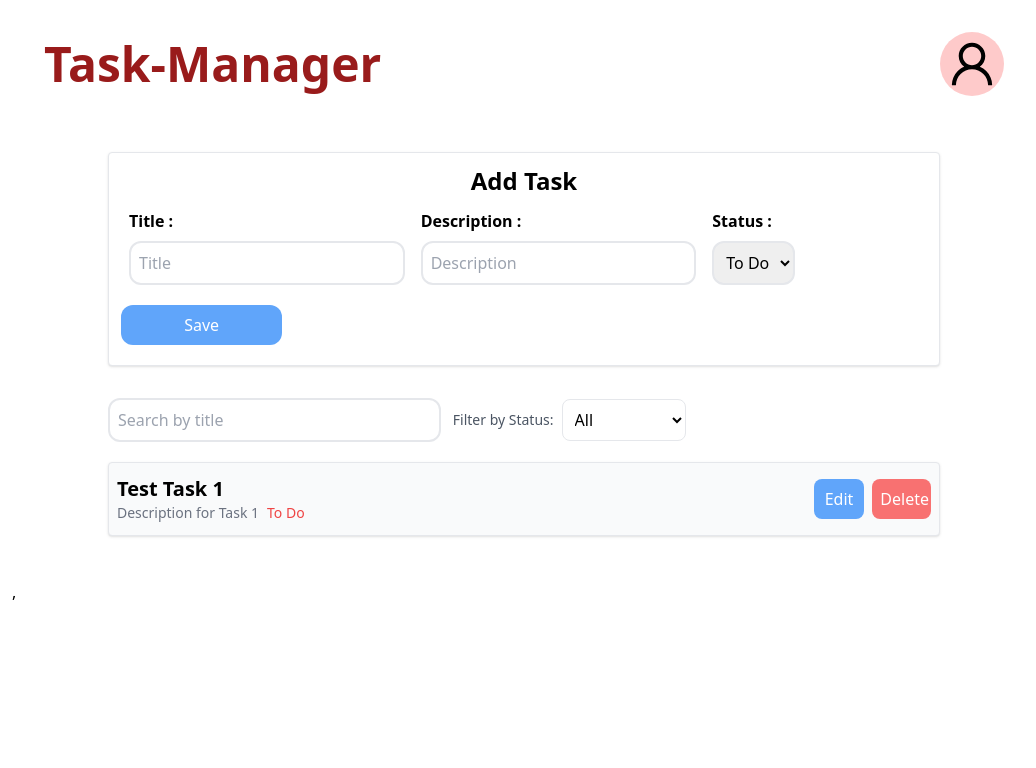
Test: Todo component › updates an existing task
The image size is (1036, 768).
Expected: the text "Test Task 1" is shown, [117,475,224,502]
Click the button "Edit" at (839,499), box [814,479,864,519]
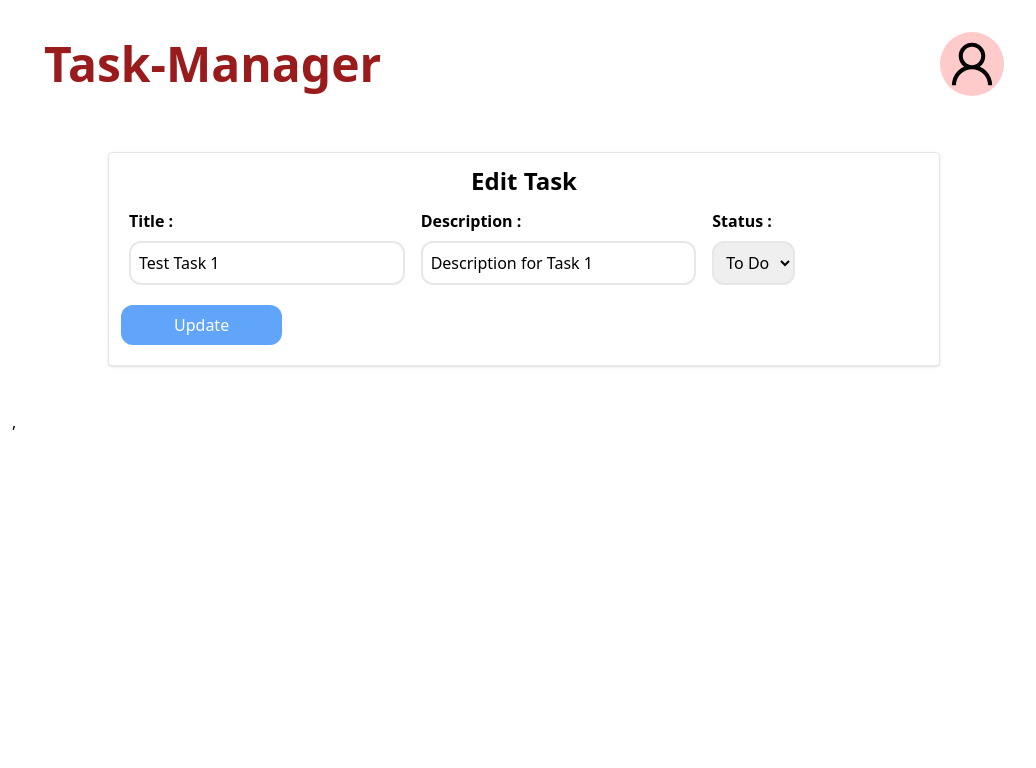
Replace the text in the field showing "Test Task 1" with "Updated Task" at (267,263), box [129,241,405,285]
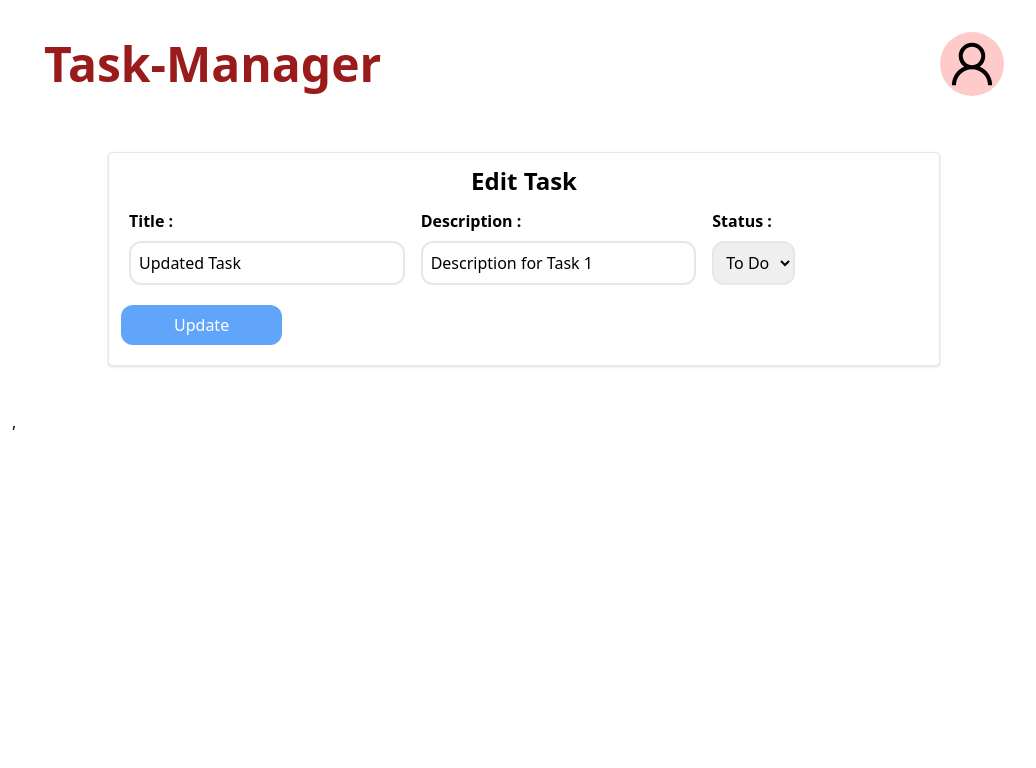
Replace the text in the field showing "Description for Task 1" with "Updated Description" at (558,263), box [421,241,696,285]
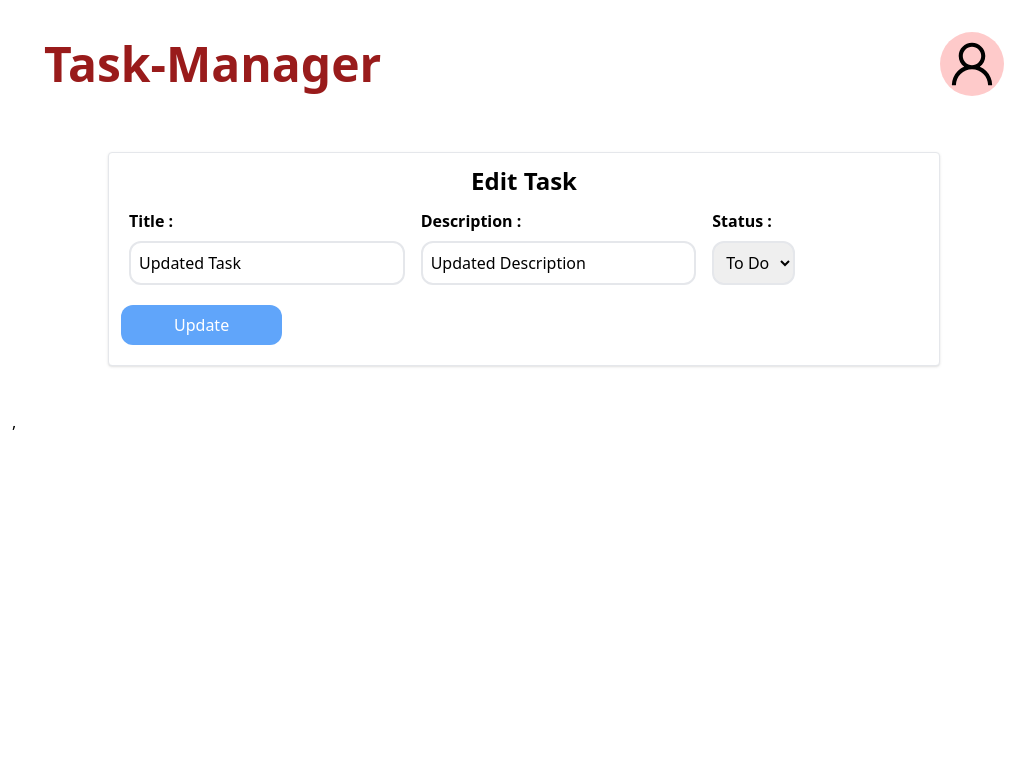
Click the button "Update" at (202,325), box [121,305,282,345]
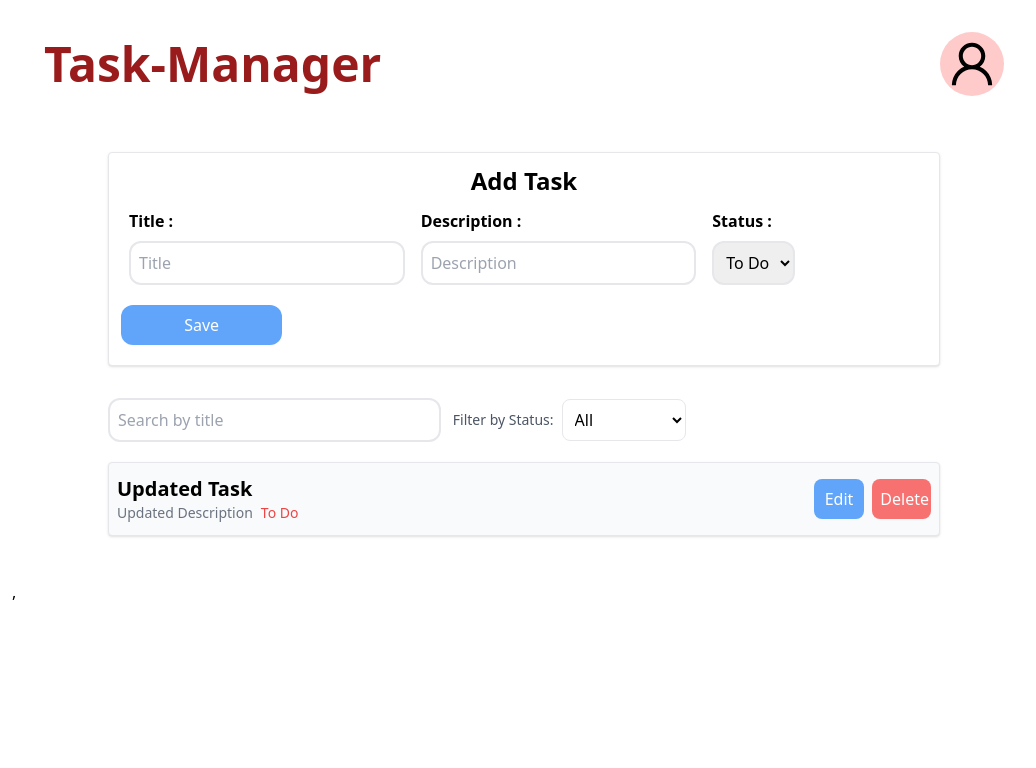
Expected: the text "Updated Task" is shown, [117,475,252,502]
